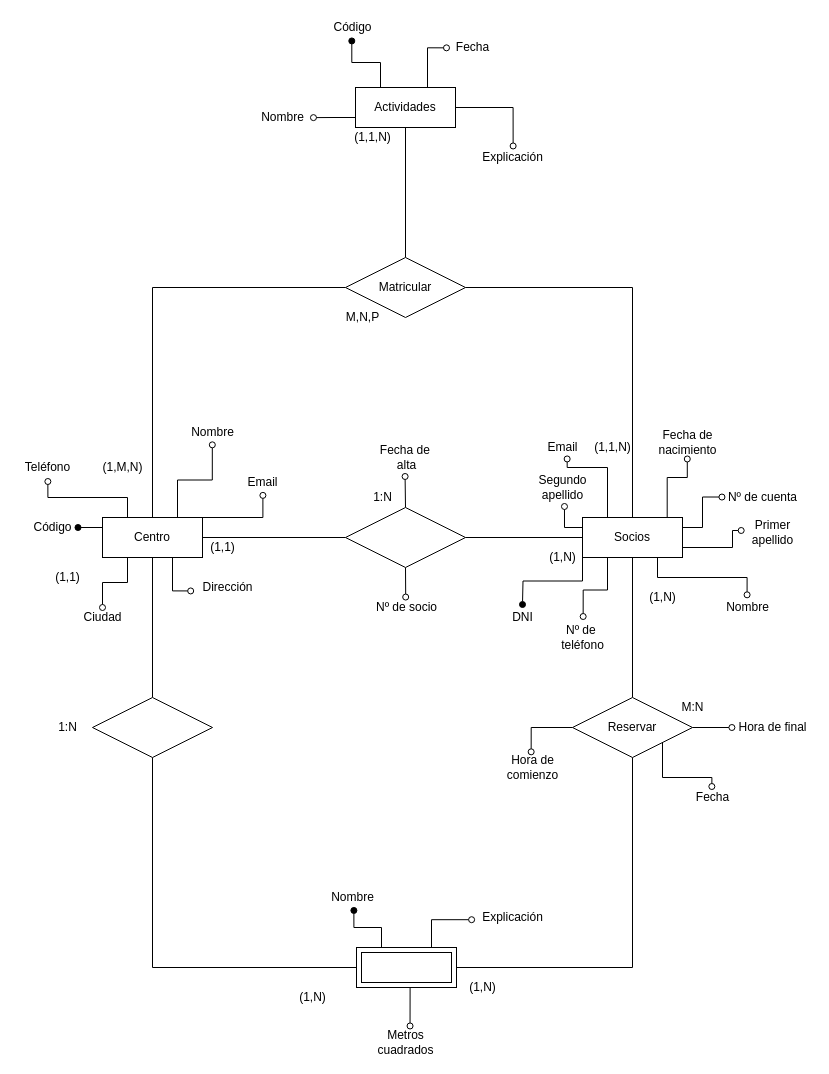
Some shapes in this 829 by 1074 pixel diagram are drawn without their labels. The centre of each missing label's shape, as x and y in pixels:
Pertenecer: (405,537)
Sala: (406,967)
Tienen: (152,727)
